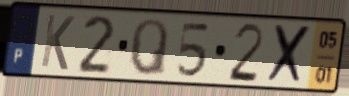2: (74, 14, 118, 76), (227, 21, 266, 84)
5: (175, 21, 213, 79)
K: (38, 11, 77, 73)
Q: (127, 16, 171, 79)
X: (265, 22, 315, 87)
